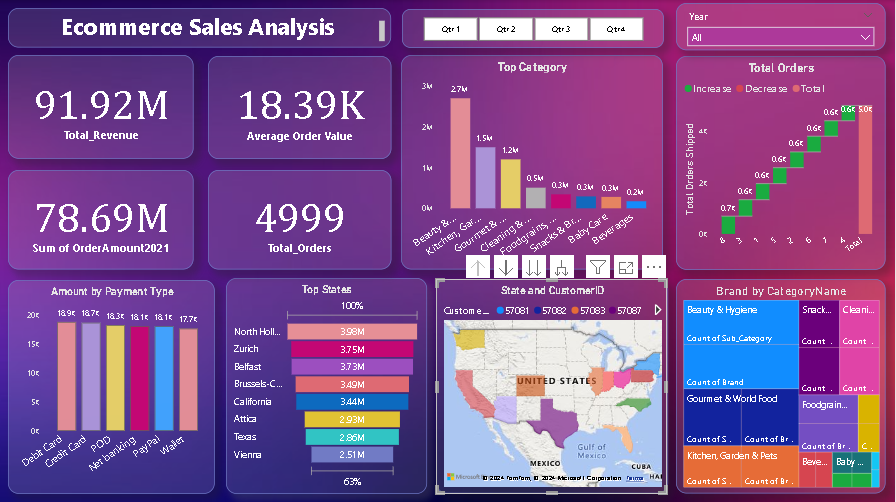

The dashboard page shown, as its layout file describes it:
{"tool":"powerbi","page":{"name":"Page 1","canvas":[1280,720],"ordinal":0},"visuals":[{"type":"textbox","box":[24.3,11.4,542.9,55.7],"z":0},{"type":"clusteredColumnChart","title":"  Top Category","fields":{"Y":["Category.Sale_Price average per CategoryName"],"Category":["Category.CategoryName"]},"box":[581.4,78.6,371.4,304.3],"z":1000},{"type":"waterfallChart","title":"Total Orders","fields":{"Category":["Shippers.ShipperID"],"Y":["Category.Total Orders Shipped"]},"box":[971.4,80,297.1,302.9],"z":2000},{"type":"columnChart","title":"Amount by Payment Type","fields":{"Category":["Payments.PaymentType"],"Y":["Category.Avg_amount"]},"box":[24.3,397.1,292.9,302.9],"z":3000},{"type":"filledMap","fields":{"Category":["Customers.State","Customers.City","Customers.Country"],"Series":["Customers.CustomerID"]},"box":[630,395.7,328.6,304.3],"z":4000},{"type":"treemap","title":"Brand by CategoryName","fields":{"Values":["CountNonNull(Category.CategoryName)","CountNonNull(Products.Sub_Category)","CountNonNull(Products.Brand)"],"Group":["Category.CategoryName"]},"box":[971.4,395.7,297.1,304.3],"z":5000},{"type":"funnel","title":"Top States","fields":{"Category":["Customers.State"],"Y":["Category.Total_Revenue"]},"box":[333.3,393.9,284.8,306.1],"z":6000},{"type":"card","fields":{"Values":["Category.Average Order Value"]},"box":[307.1,80,260,145.7],"z":7000},{"type":"card","fields":{"Values":["Category.Total_Orders"]},"box":[307.1,241.4,260,141.4],"z":8000},{"type":"card","fields":{"Values":["Sum(Orders.OrderAmount2021)"]},"box":[24.3,241.4,262.9,141.4],"z":9000},{"type":"card","fields":{"Values":["Category.Total_Revenue"]},"box":[24.3,78.6,262.9,147.1],"z":10000},{"type":"slicer","fields":{"Values":["Orders.DeliveryDate.Variation.Date Hierarchy.Year"]},"box":[971.2,4.5,297,66.7],"z":11000},{"type":"slicer","fields":{"Values":["Orders.OrderDate.Variation.Date Hierarchy.Quarter"]},"box":[581.8,12.1,371.2,54.5],"z":12000}]}

Visuals, with their boxes in screenshot pixels (x1, y1, x2, y2), scaled from the page's 1280x720 canvas onto the 896x502 screenshot:
textbox: [x1=17, y1=8, x2=397, y2=47]
"  Top Category" clusteredColumnChart: [x1=407, y1=55, x2=667, y2=267]
"Total Orders" waterfallChart: [x1=680, y1=56, x2=888, y2=267]
"Amount by Payment Type" columnChart: [x1=17, y1=277, x2=222, y2=488]
filledMap - Customers.State x Customers.City: [x1=441, y1=276, x2=671, y2=488]
"Brand by CategoryName" treemap: [x1=680, y1=276, x2=888, y2=488]
"Top States" funnel: [x1=233, y1=275, x2=433, y2=488]
card - Category.Average Order Value: [x1=215, y1=56, x2=397, y2=157]
card - Category.Total_Orders: [x1=215, y1=168, x2=397, y2=267]
card - Sum(Orders.OrderAmount2021): [x1=17, y1=168, x2=201, y2=267]
card - Category.Total_Revenue: [x1=17, y1=55, x2=201, y2=157]
slicer - Orders.DeliveryDate.Variation.Date Hierarchy.Year: [x1=680, y1=3, x2=888, y2=50]
slicer - Orders.OrderDate.Variation.Date Hierarchy.Quarter: [x1=407, y1=8, x2=667, y2=46]
